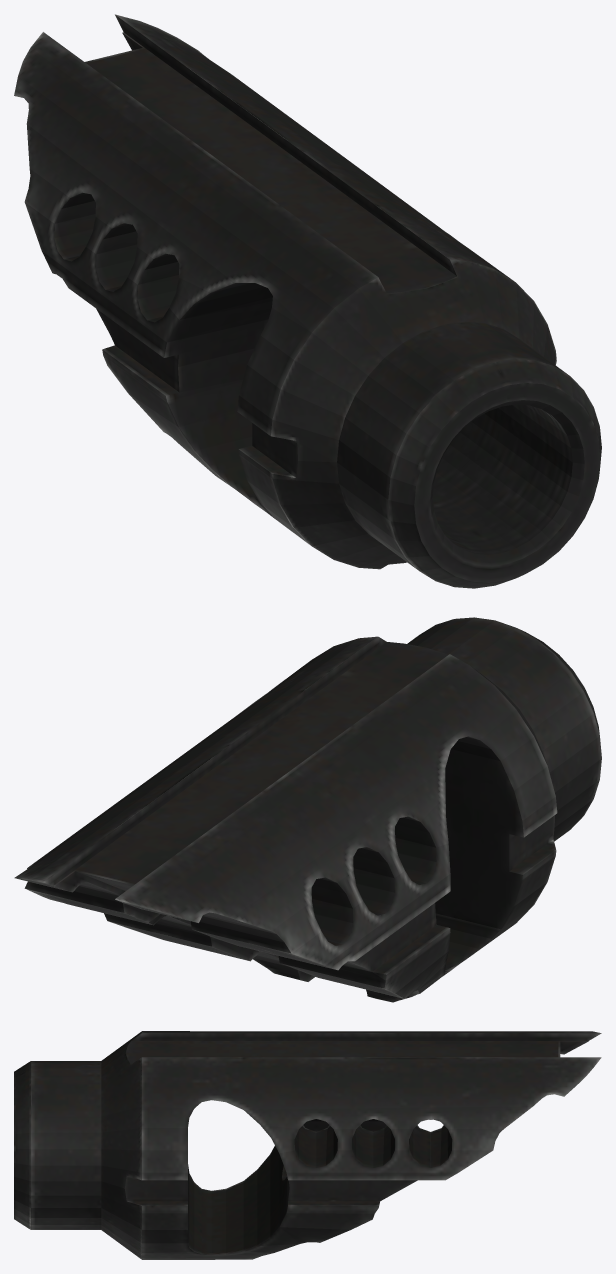
3 views of the same model, one above another, from view 1: azimuth 30°, elevation 25°; view 2: azimuth 150°, elevation 25°; view 3: azimuth 270°, elevation 25° (orthographic). The views are drawn at different scales.
Parts seen in each view (by area): view 1: TW_612e0e55a112697a4b3a66e7_PZ_Import; view 2: TW_612e0e55a112697a4b3a66e7_PZ_Import; view 3: TW_612e0e55a112697a4b3a66e7_PZ_Import.
Boxes of the visible parts, x1,y1,x2,y2 form: TW_612e0e55a112697a4b3a66e7_PZ_Import: [14, 14, 601, 588]; TW_612e0e55a112697a4b3a66e7_PZ_Import: [14, 617, 601, 1002]; TW_612e0e55a112697a4b3a66e7_PZ_Import: [14, 1031, 601, 1259].
Size of the model in its own units: 0.0152 by 0.0394 by 0.0148.
Materials: 1 (1 with a texture image).
